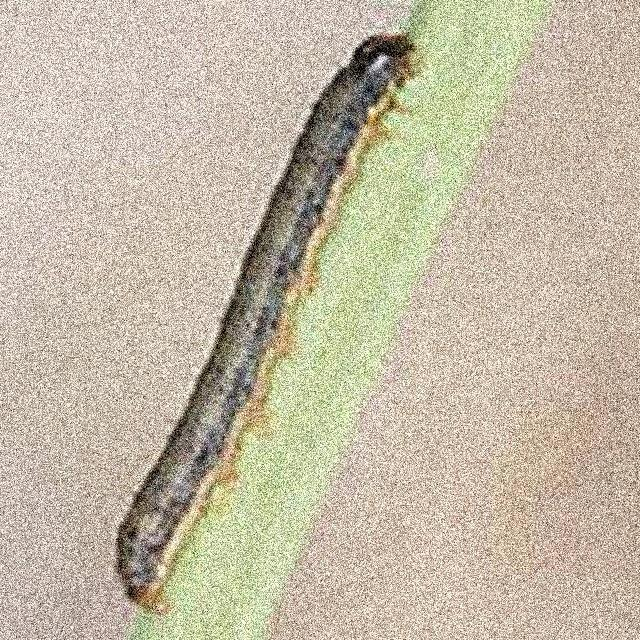Plaga: (118, 34, 416, 606)
